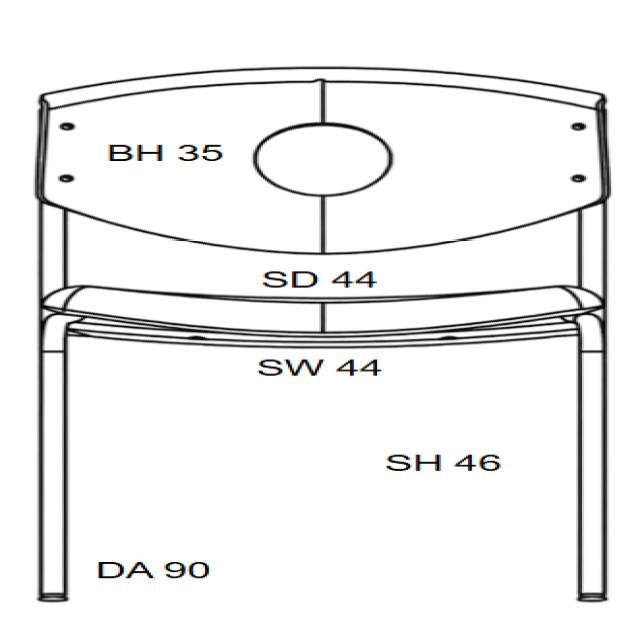Backrest: (27, 60, 623, 263)
Leg_Structure: (27, 309, 617, 612)
Seat: (27, 278, 621, 343)
